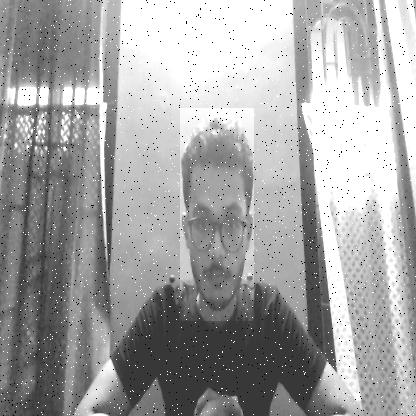Normal: (180, 108, 254, 321)
